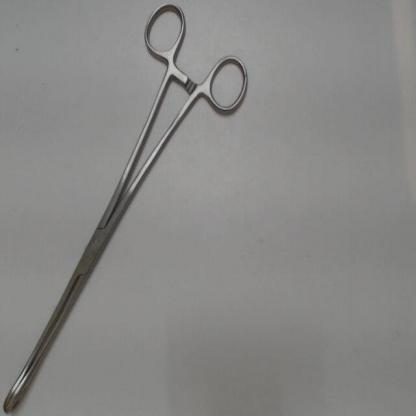Sponge Forceps: (4, 1, 253, 415)
